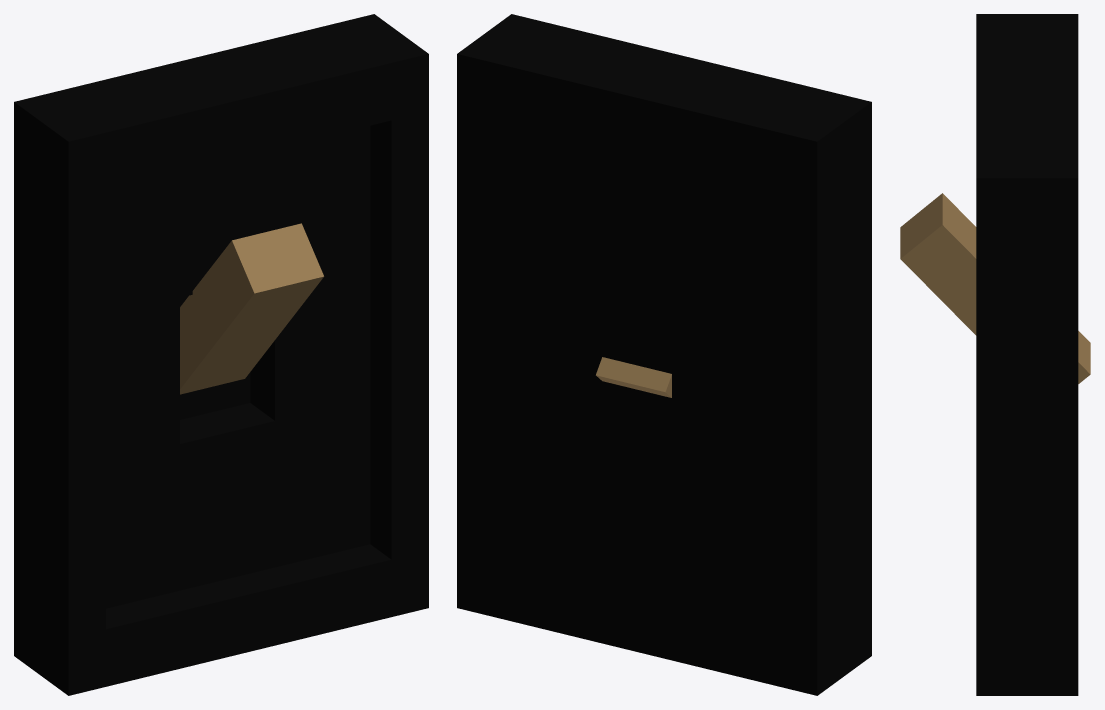
The model's file is light-switch.glb.
3 views of the same model, side by side, from view 1: azimuth 30°, elevation 25°; view 2: azimuth 150°, elevation 25°; view 3: azimuth 270°, elevation 25° (orthographic). The views are drawn at different scales.
Visible parts, largest first — view 1: Cube.002, Cube.003; view 2: Cube.002, Cube.003; view 3: Cube.002, Cube.003.
Part boxes in pixels (x1,y1,x2,y2): Cube.002: [14, 14, 428, 695]; Cube.003: [180, 223, 323, 394]; Cube.002: [457, 14, 871, 695]; Cube.003: [596, 357, 671, 397]; Cube.002: [976, 14, 1078, 695]; Cube.003: [900, 193, 1090, 383].
Bounding box in the file's own units: 2 × 2.94 × 0.9786.
